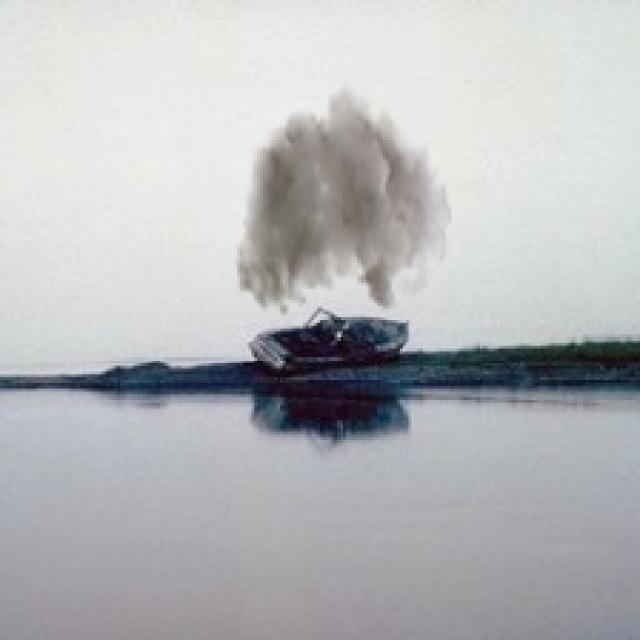smoke: (234, 80, 452, 317)
